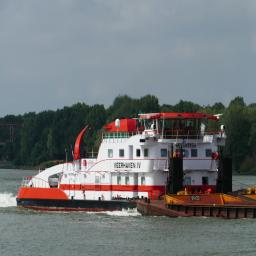tugboat: (14, 108, 236, 218)
